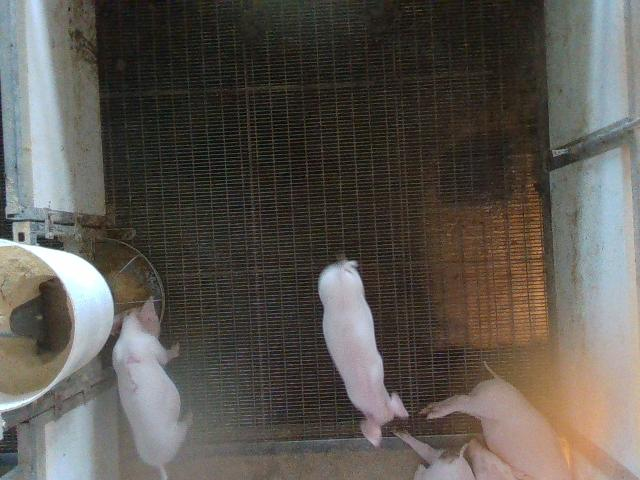pig-5: (112, 296, 192, 479)
